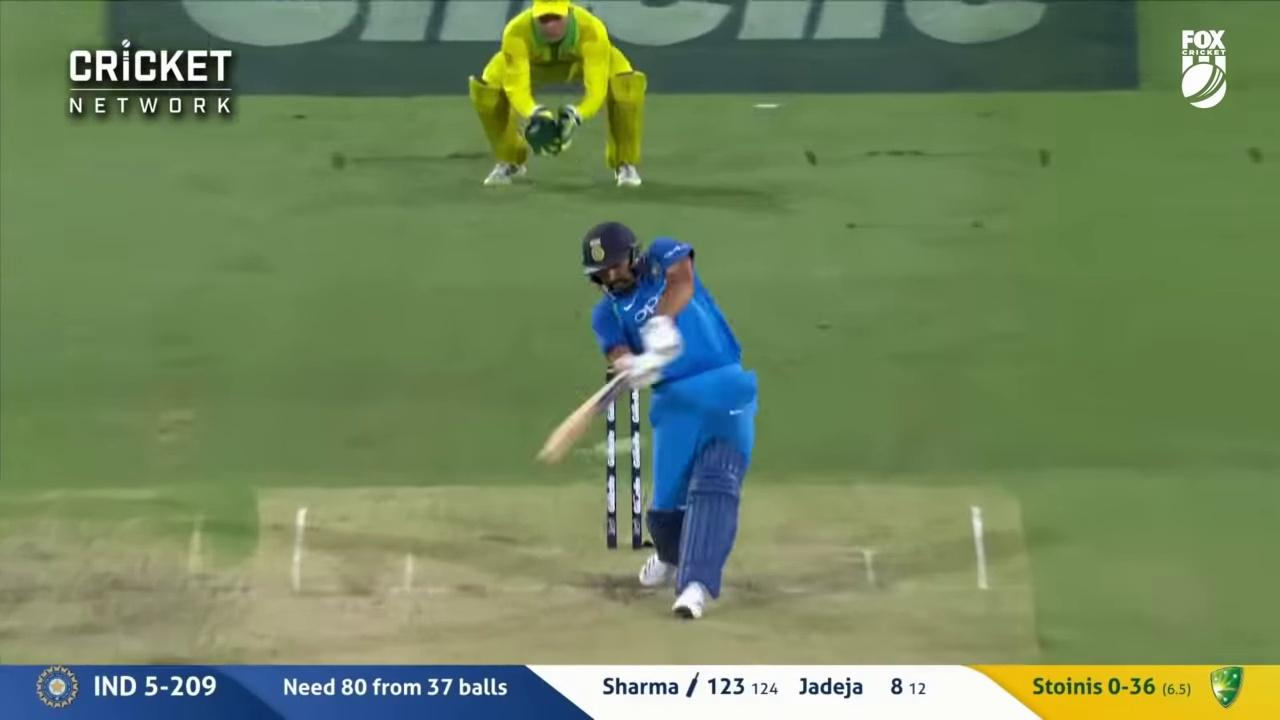batsman: (535, 219, 757, 614)
